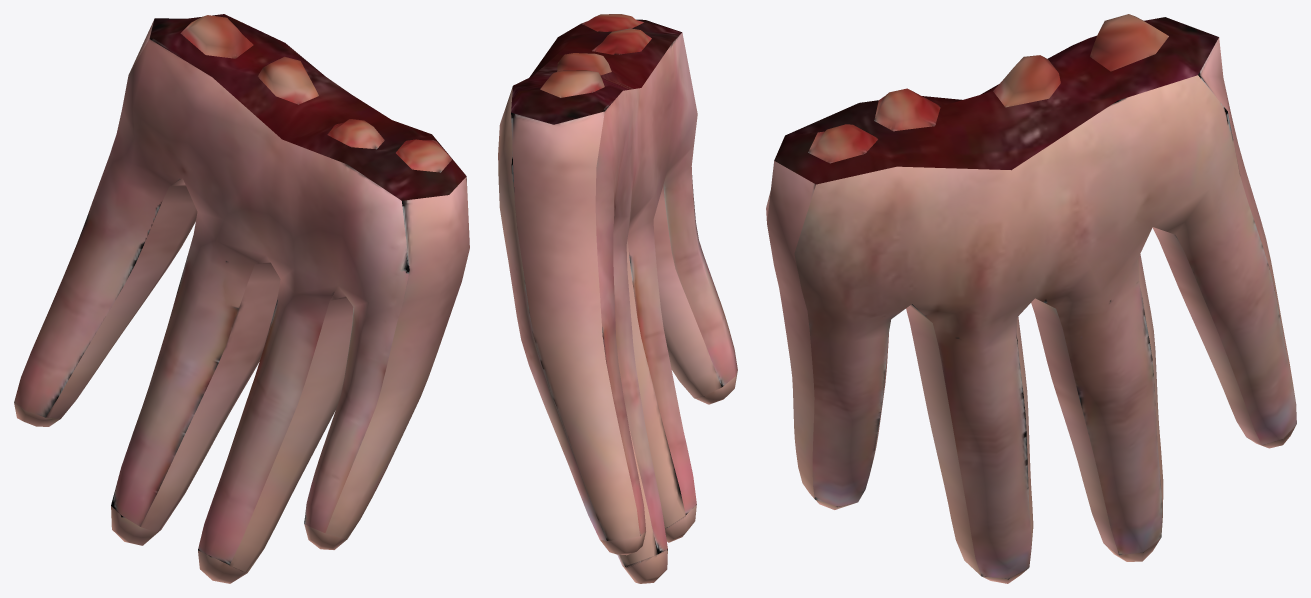
The model's file is flesh_6.glb.
3 renders of one model, left to right at view 1: azimuth 30°, elevation 25°; view 2: azimuth 150°, elevation 25°; view 3: azimuth 270°, elevation 25°, orthographic. The views are drawn at different scales.
Parts seen in each view (by area): view 1: trozo 6; view 2: trozo 6; view 3: trozo 6.
Boxes of the visible parts, box(x1,y1,x2,y2) form: trozo 6: box(14, 14, 469, 583); trozo 6: box(498, 14, 737, 583); trozo 6: box(766, 14, 1296, 583).
Bounding box in the file's own units: 0.1318 × 0.2509 × 0.2068.
Materials: 1 (1 with a texture image).
